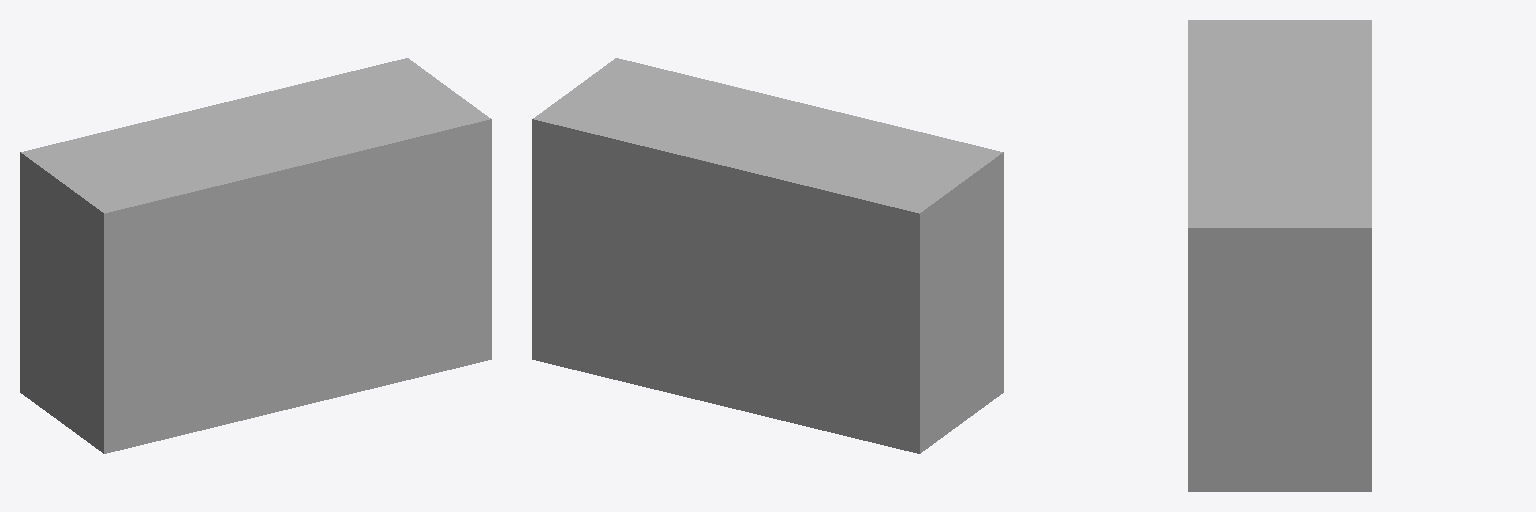
URDF robot description (box.urdf):
<?xml version="0.0" ?>
<robot name="box.urdf">
  <link name="baseLink">
    <contact>
      <lateral_friction value="0.5"/>
      <rolling_friction value="0.0"/>
      <contact_cfm value="0.0"/>
      <contact_erp value="1.0"/>
    </contact>
    <inertial>
      <origin rpy="0 0 0" xyz="0 0 0"/>
       <mass value=".01"/>
       <inertia ixx="1" ixy="0" ixz="0" iyy="1" iyz="0" izz="1"/>
    </inertial>
    <visual>
      <origin rpy="0 0 0" xyz="0 0 0"/>
      <geometry>
				<mesh filename="box.obj" scale="0.16 0.06 0.095"/>
      </geometry>
       <material name="white">
        <color rgba="0.75 0.75 0.75 1"/>
      </material>
    </visual>
    <collision>
      <origin rpy="0 0 0" xyz="0 0 0"/>
      <geometry>
	 	<box size="0.16 0.06 0.095"/>
      </geometry>
    </collision>
  </link>
</robot>

--- What the picture shows (computed from the rendered views, not written in the file) ---
3 views of the same robot in one strip: view 1: azimuth 30°, elevation 25°; view 2: azimuth 150°, elevation 25°; view 3: azimuth 270°, elevation 25° (orthographic).
Robot: box.urdf — 1 links, 0 joints (none); root link baseLink; default pose: all joints at 0.
Visible links, largest first — view 1: baseLink; view 2: baseLink; view 3: baseLink.
Boxes of the visible links, bbox=[...] form: baseLink: bbox=[20, 58, 491, 453]; baseLink: bbox=[532, 58, 1003, 453]; baseLink: bbox=[1188, 20, 1371, 491].
Size in the robot's own frame: 0.16 by 0.06 by 0.095 metres.
Meshes: 1 distinct files referenced, 1 mesh visuals loaded (1 OBJ).